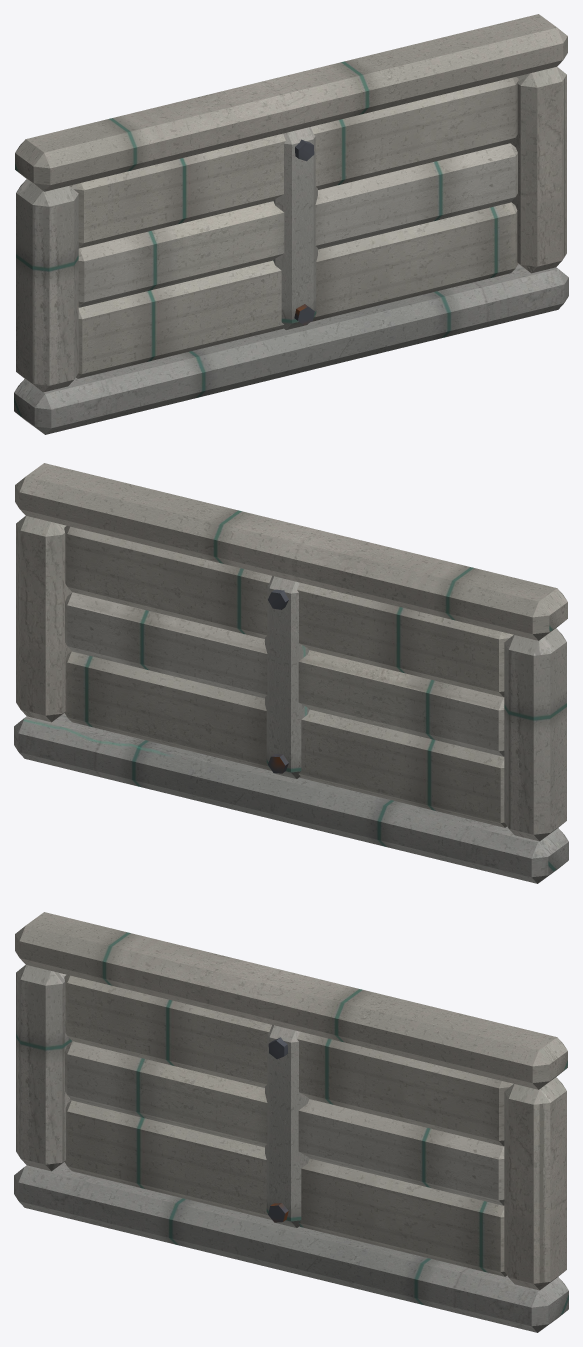
The model's file is yarim_duvar.glb.
3 views of the same model, one above another, from view 1: azimuth 30°, elevation 25°; view 2: azimuth 150°, elevation 25°; view 3: azimuth 330°, elevation 25° (orthographic).
Visible parts, largest first — view 1: yarim_duvar; view 2: yarim_duvar; view 3: yarim_duvar.
Boxes of the visible parts, <box> form: yarim_duvar: <box>14,14,568,434</box>; yarim_duvar: <box>14,463,568,883</box>; yarim_duvar: <box>14,912,568,1332</box>.
Bounding box in the file's own units: 3 × 1.51 × 0.32.
Materials: 1 (1 with a texture image).
